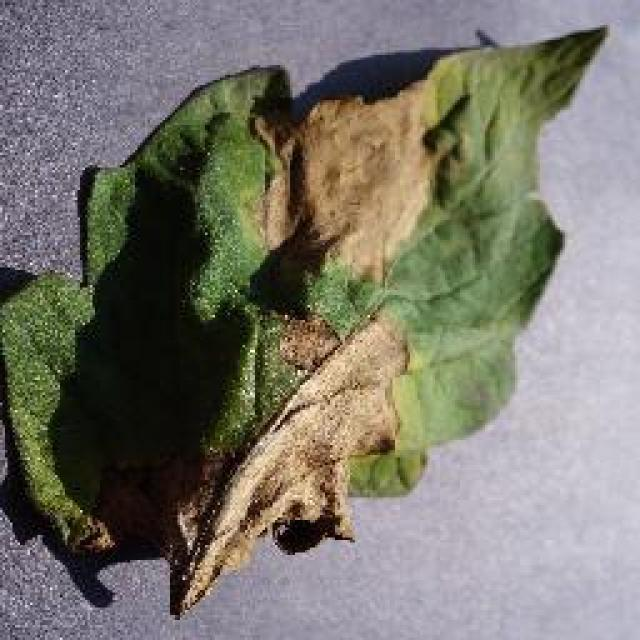Tomato late blight leaf: (0, 23, 610, 605)
